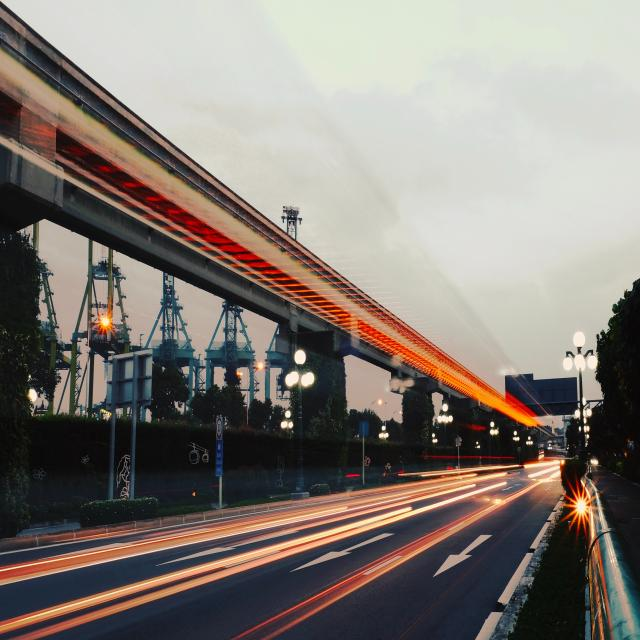Street Light: (562, 330, 596, 497), (285, 349, 314, 496), (438, 402, 453, 470), (282, 410, 294, 494), (372, 398, 384, 444), (393, 410, 403, 446)
